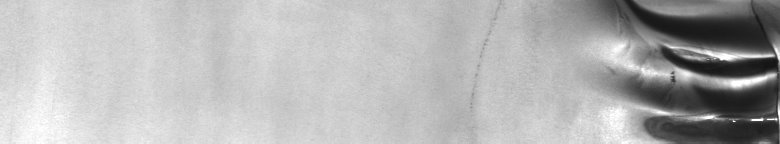ke: (604, 4, 776, 136)
